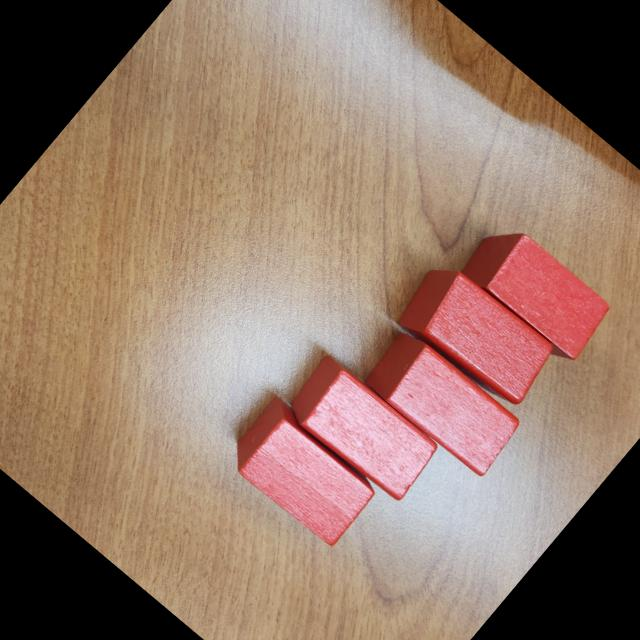red: (450, 212, 618, 372), (364, 332, 520, 478), (291, 354, 436, 503), (394, 267, 551, 403), (237, 395, 371, 548)
